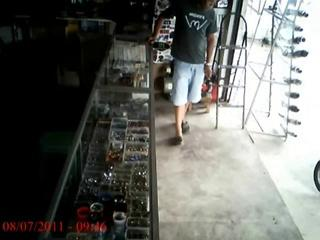Normal: (148, 0, 218, 146)
